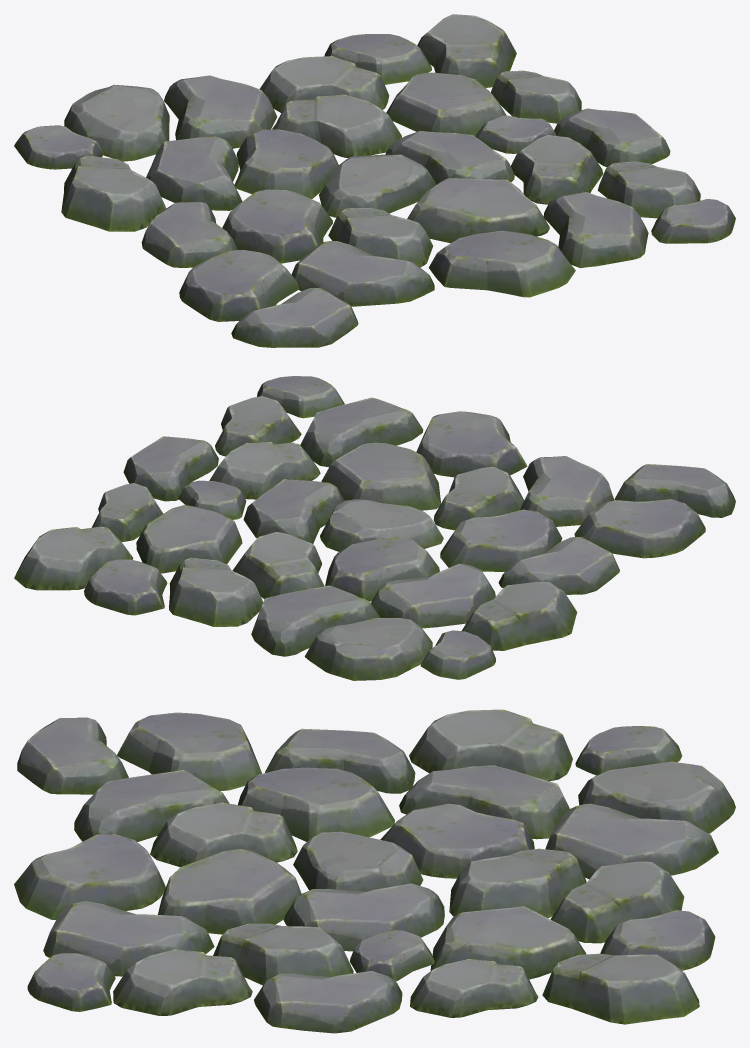
Rendered from path-round-wide.glb.
The picture shows the model from 3 angles, top to bottom: view 1: azimuth 30°, elevation 25°; view 2: azimuth 150°, elevation 25°; view 3: azimuth 270°, elevation 25°; orthographic projection. The views are drawn at different scales.
Parts seen in each view (by area): view 1: RockPath_Round_Wide; view 2: RockPath_Round_Wide; view 3: RockPath_Round_Wide.
Boxes of the visible parts, box(x1,y1,x2,y2) form: RockPath_Round_Wide: box(14, 14, 735, 347); RockPath_Round_Wide: box(14, 376, 735, 680); RockPath_Round_Wide: box(14, 709, 735, 1033).
Size of the model in its own units: 2.11 by 0.1128 by 2.13.
1 material, 1 textured.
